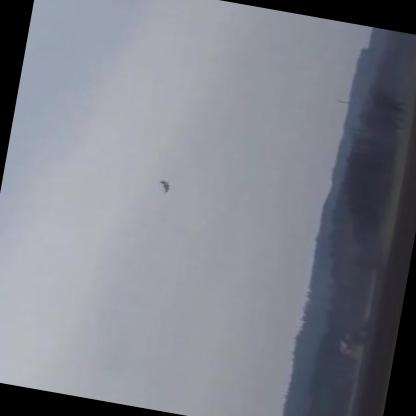plane: (157, 178, 172, 195)
